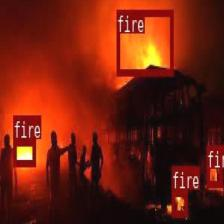fire: (116, 10, 172, 74), (206, 145, 222, 186), (13, 138, 35, 166), (172, 188, 187, 216)
